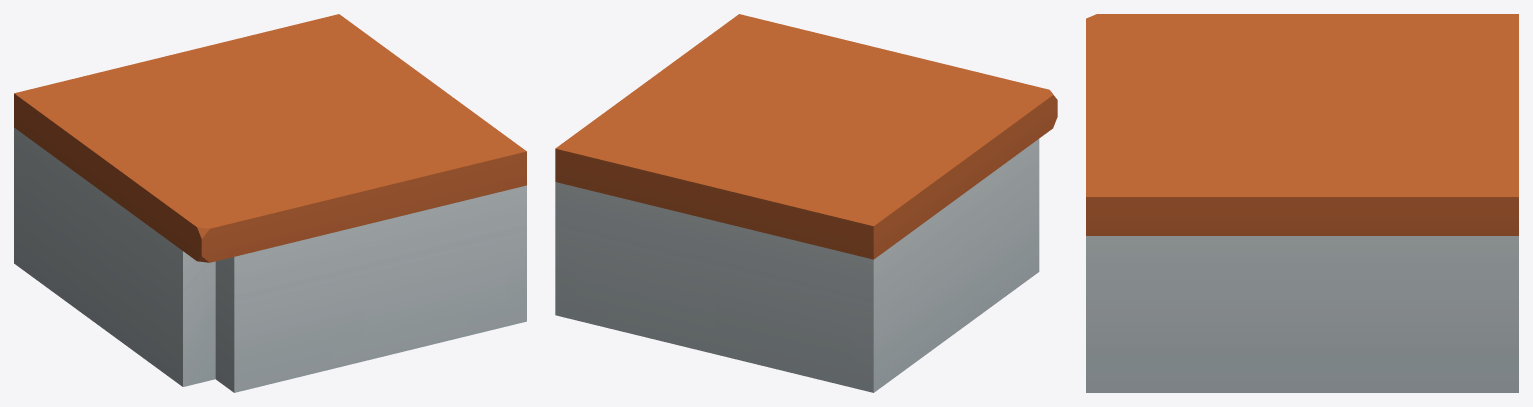
Rendered from kaykit-restaurant-bits-kitchencounter-innercorner.glb.
3 views of the same model, side by side, from view 1: azimuth 30°, elevation 25°; view 2: azimuth 150°, elevation 25°; view 3: azimuth 270°, elevation 25° (orthographic). The views are drawn at different scales.
Parts seen in each view (by area): view 1: kitchencounter_innercorner; view 2: kitchencounter_innercorner; view 3: kitchencounter_innercorner.
Part boxes in pixels (box(x1,y1,x2,y2)): kitchencounter_innercorner: box(14, 14, 526, 392); kitchencounter_innercorner: box(555, 14, 1057, 392); kitchencounter_innercorner: box(1086, 14, 1518, 392).
Bounding box in the file's own units: 2 × 1 × 2.
1 material, 1 textured.
